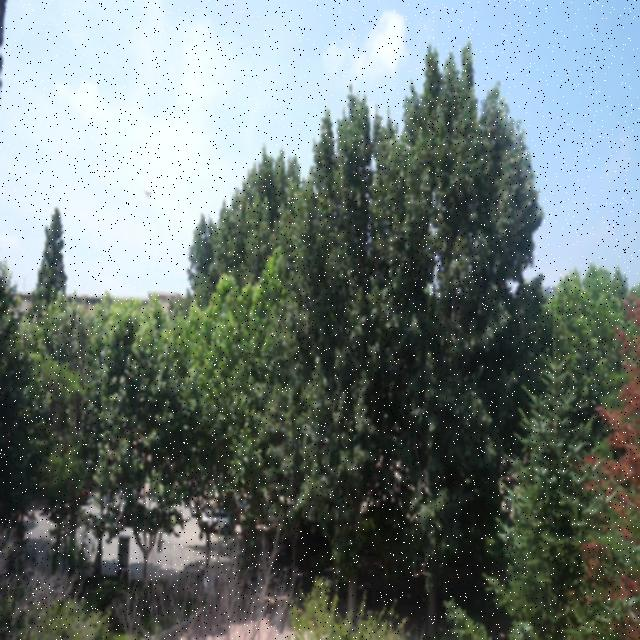UAV: (144, 190, 152, 198)
